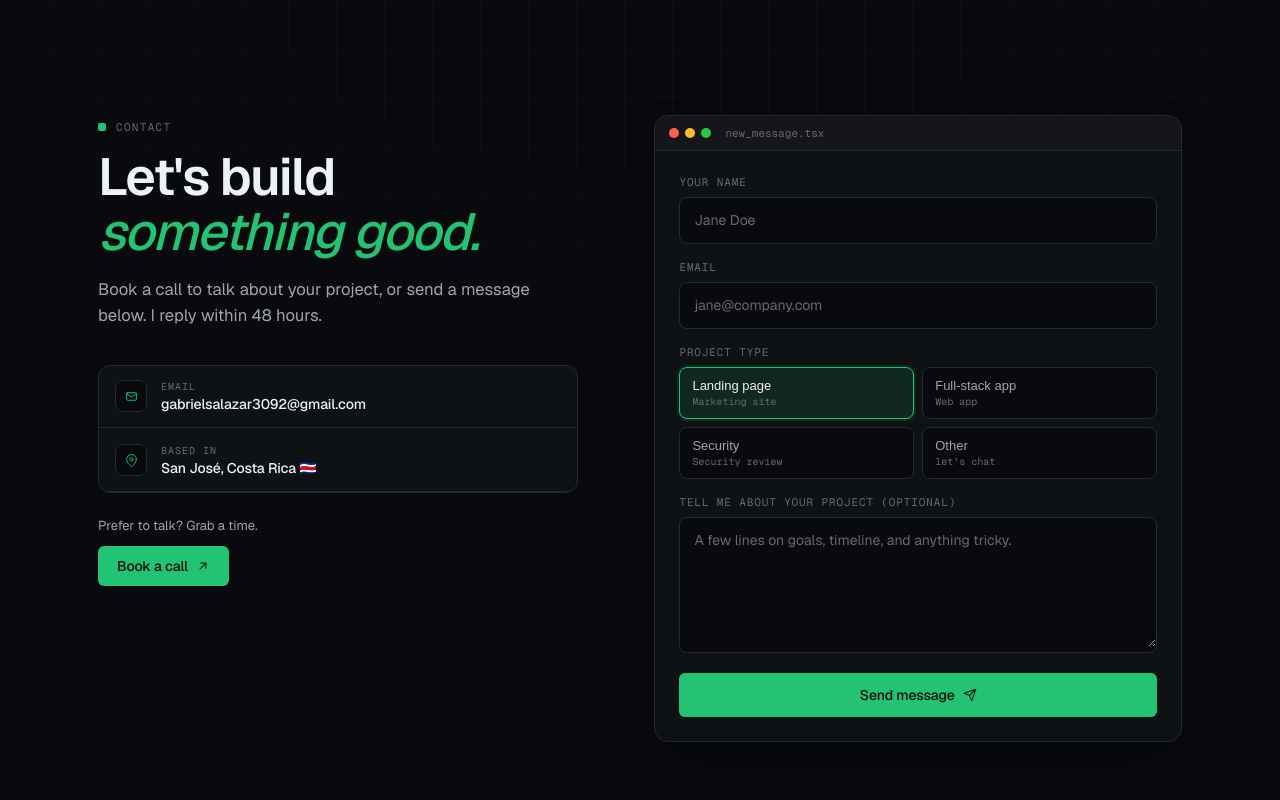
Contact section › shows rate-limit error on 429 response
Step 1. Type "Test User" into the field labelled "Your name" → (918, 221), box [680,198,1156,243]
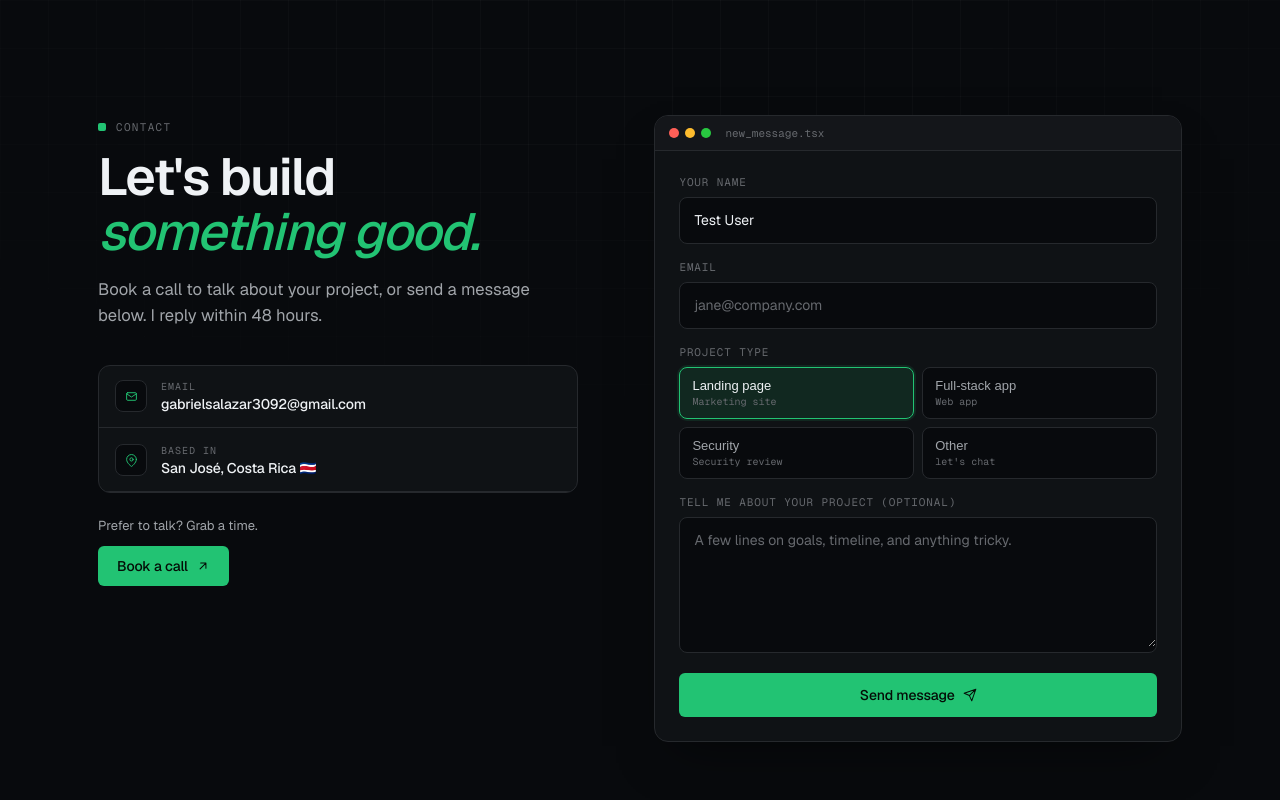
Step 2. Type "test@example.com" into the field labelled "Email" → (918, 306), box [680,283,1156,328]
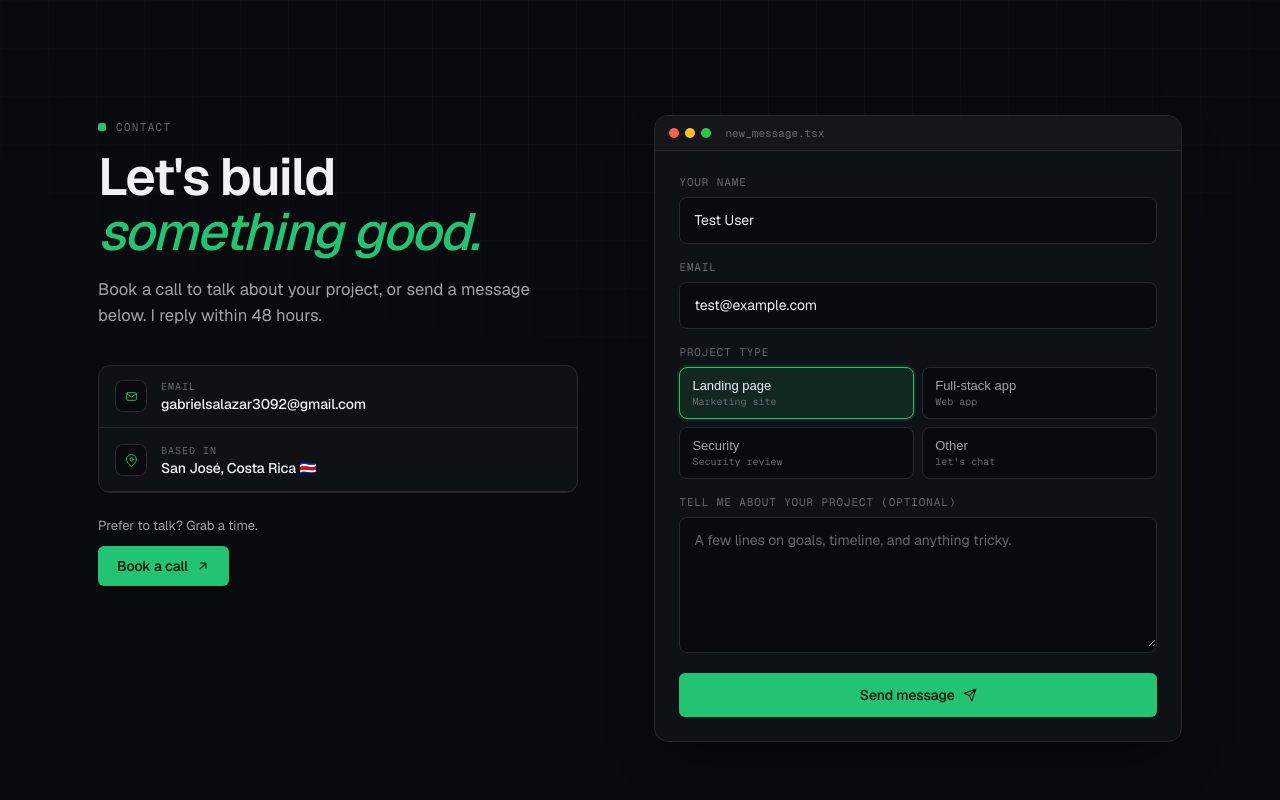
Step 3. Type "This is a test message with enough chars." into the text box labelled "Tell me about your project (optional)" → (918, 583), box [680,518,1156,647]
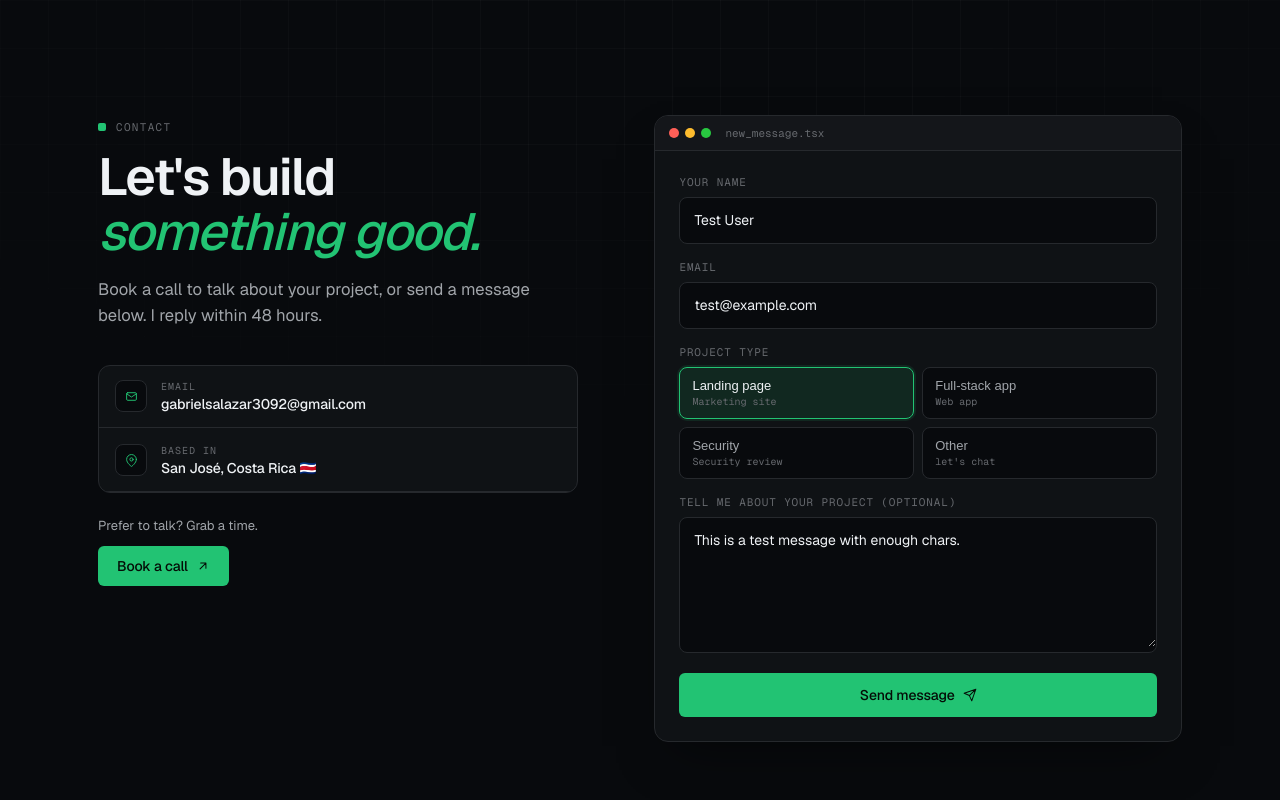
Step 4. Click the button "Send message" → (918, 695), box [679,673,1157,717]
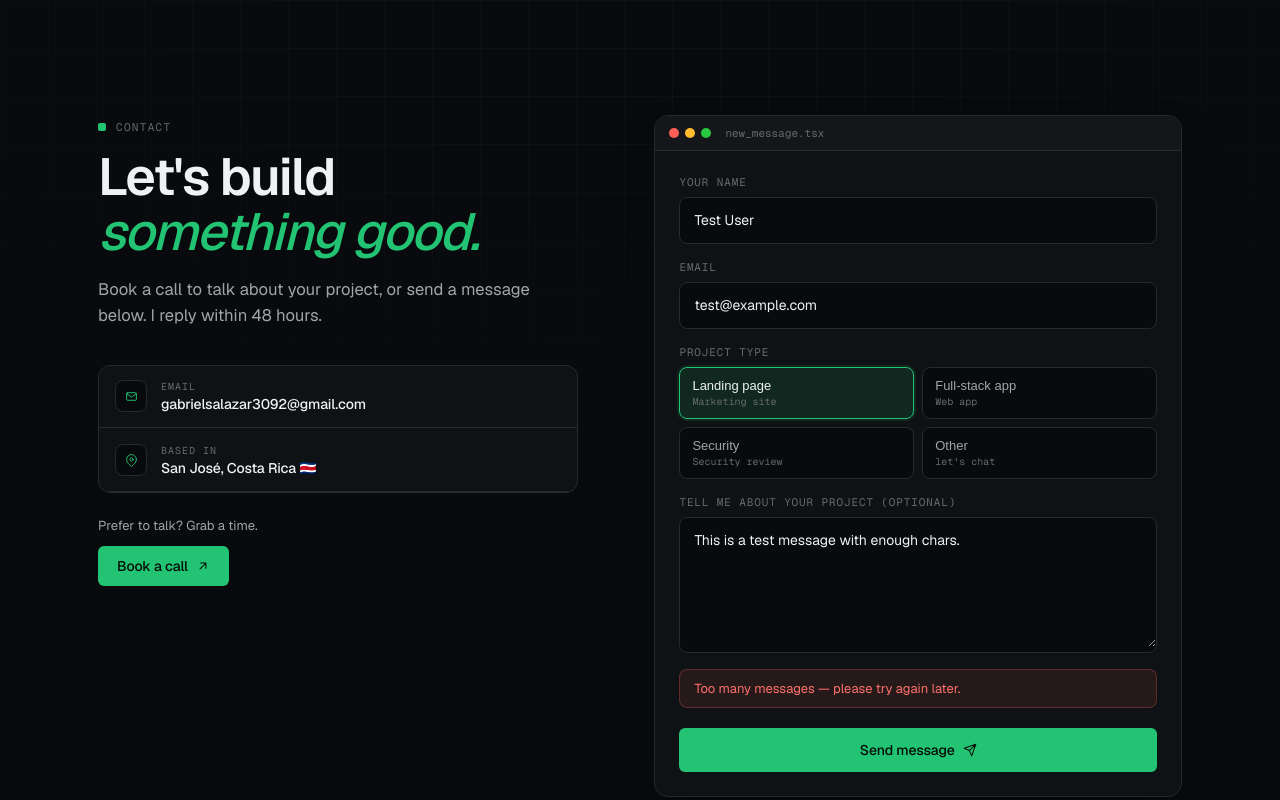
Now the text "Too many messages — please try again later." is shown, box [679,669,1157,708]
